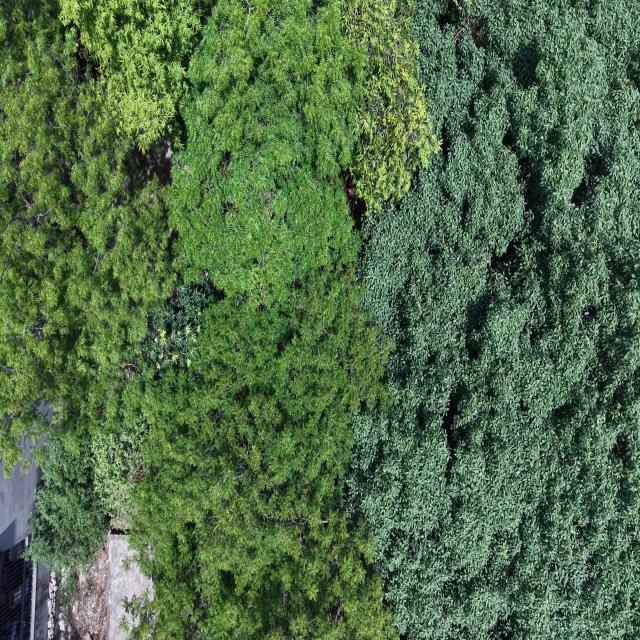VEGETATION_TREE: (0, 0, 639, 639), (3, 2, 390, 638), (352, 0, 639, 638), (0, 0, 366, 466), (133, 2, 387, 637), (0, 2, 174, 569), (132, 264, 388, 638), (168, 0, 436, 303), (0, 0, 174, 466), (169, 0, 363, 306), (28, 380, 146, 590), (60, 0, 212, 149), (341, 0, 439, 210), (29, 437, 109, 571), (144, 274, 220, 371)
